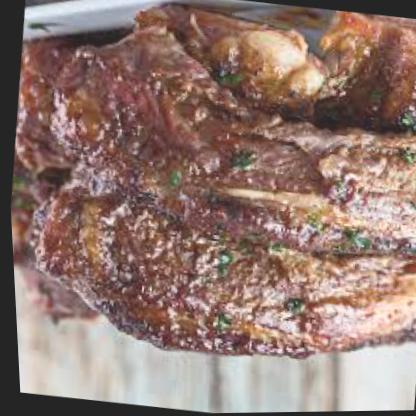Korean rib: (0, 0, 415, 382)
